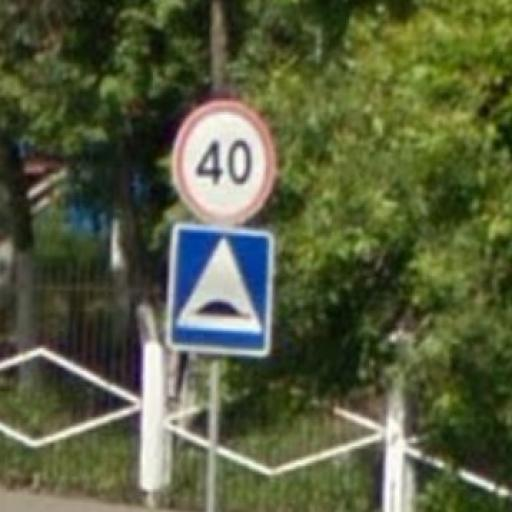traffic_sign: (163, 222, 279, 361), (170, 99, 278, 230)
